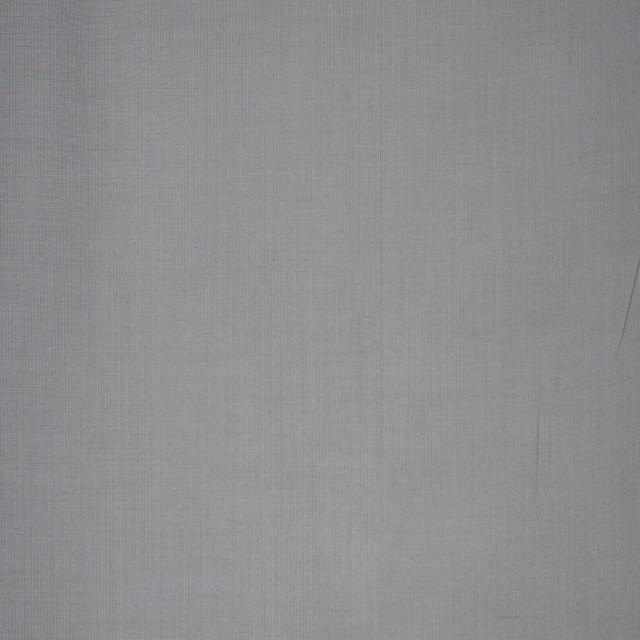dirty: (472, 327, 478, 335)
